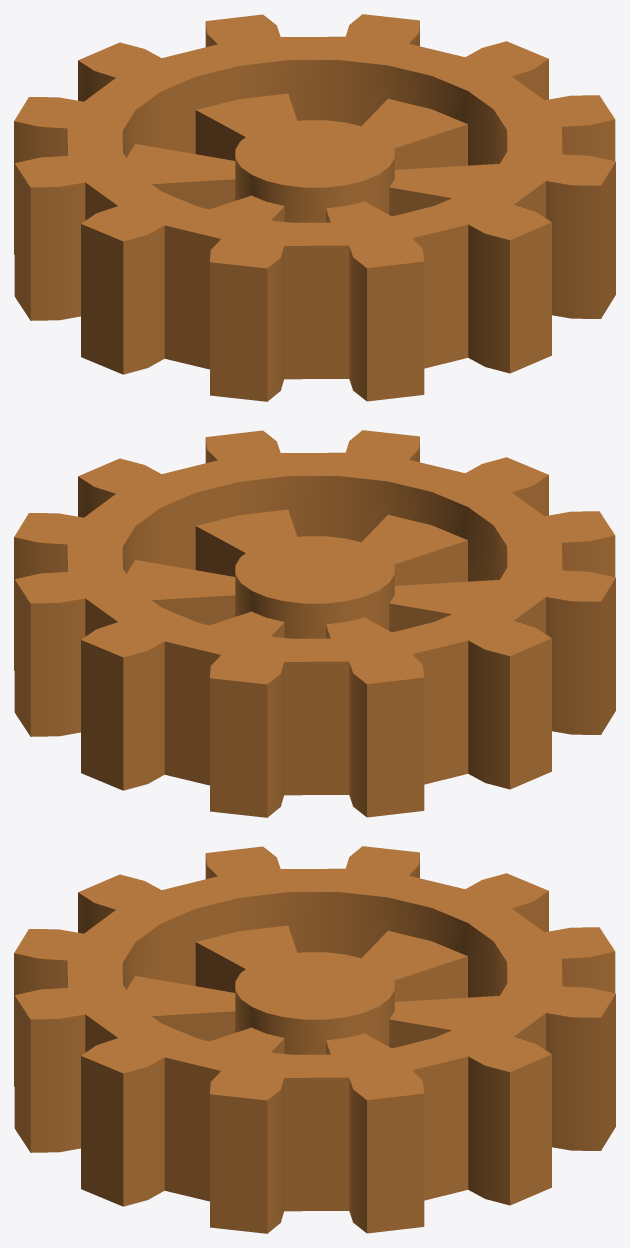
File: gear_mid_03.fbx
3 renders of one model, top to bottom at view 1: azimuth 30°, elevation 25°; view 2: azimuth 150°, elevation 25°; view 3: azimuth 270°, elevation 25°, orthographic.
Parts seen in each view (by area): view 1: Gear_Mid_03; view 2: Gear_Mid_03; view 3: Gear_Mid_03.
Boxes of the visible parts, x1,y1,x2,y2 form: Gear_Mid_03: (14,14,615,401); Gear_Mid_03: (14,430,615,817); Gear_Mid_03: (14,846,615,1233).
Size of the model in its own units: 448 by 109 by 448.
